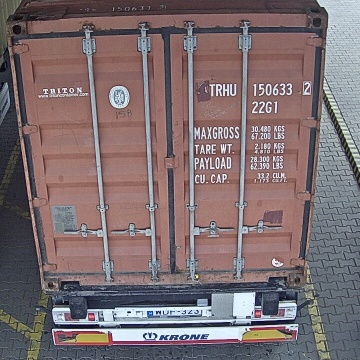serial_id: (209, 81, 311, 95)
